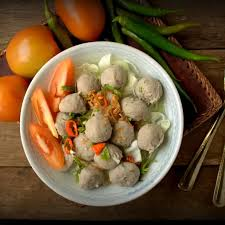bakso: (32, 50, 176, 191)
